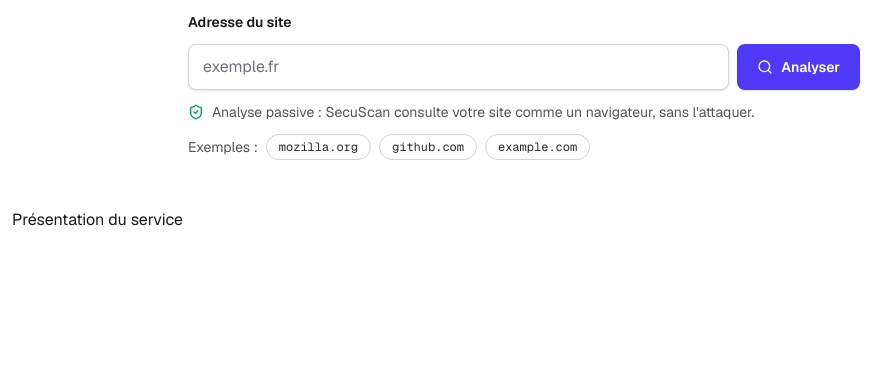
Test: ScanApp › indique quand réessayer si la limite de débit est atteinte (429)
The image size is (877, 373).
In the field labelled "Adresse du site": (459, 67) 188,44 -> 729,90, type "example.com"
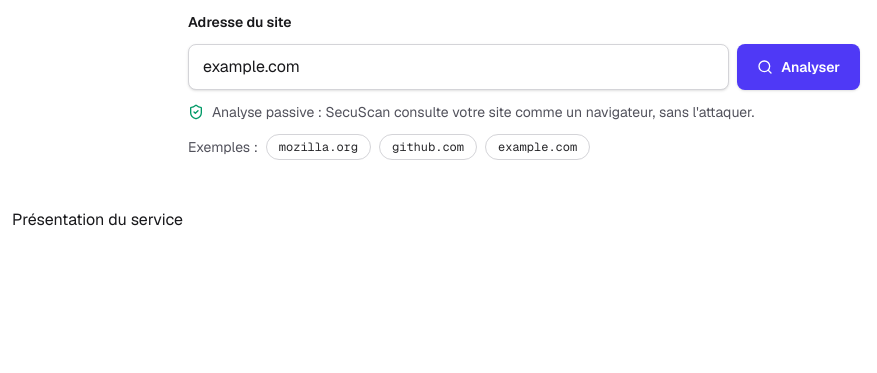
Click the button "Analyser": click(799, 67) 737,44 -> 860,90
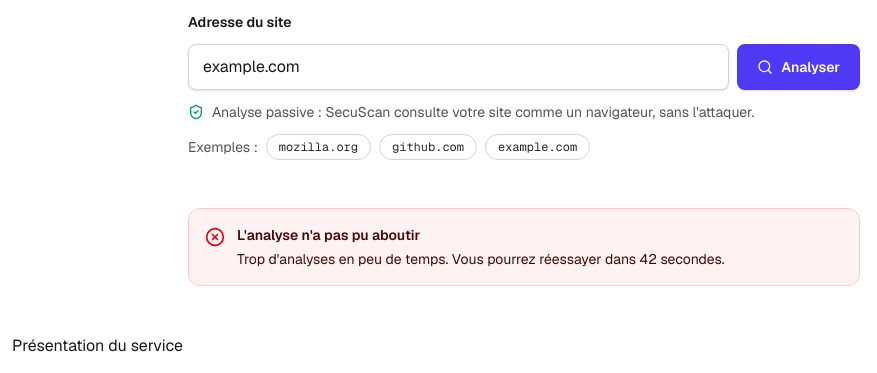
Expected: the text "Présentation du service" is shown, 12,335 -> 183,356
Result: the message shows "L'analyse n'a pas pu aboutir" at 237,226 -> 420,244
Result: the message shows "Trop d'analyses en peu de temps. Vous pourrez réessayer dans 42 secondes." at 237,250 -> 725,268
